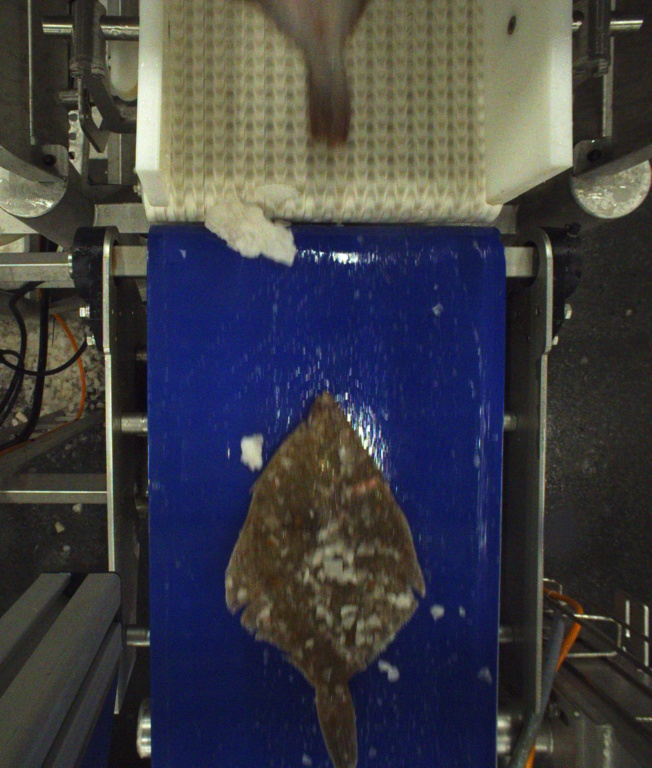PLE: (225, 391, 427, 768)
